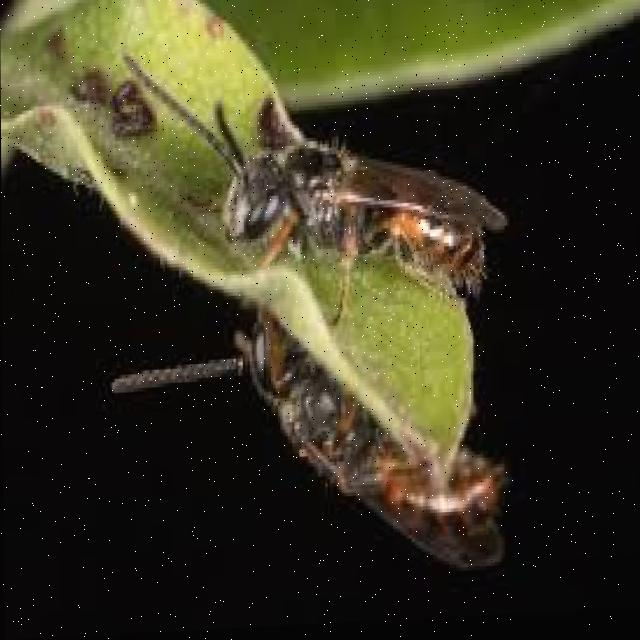Lasioglossum: (193, 254, 523, 599), (158, 36, 520, 328)
